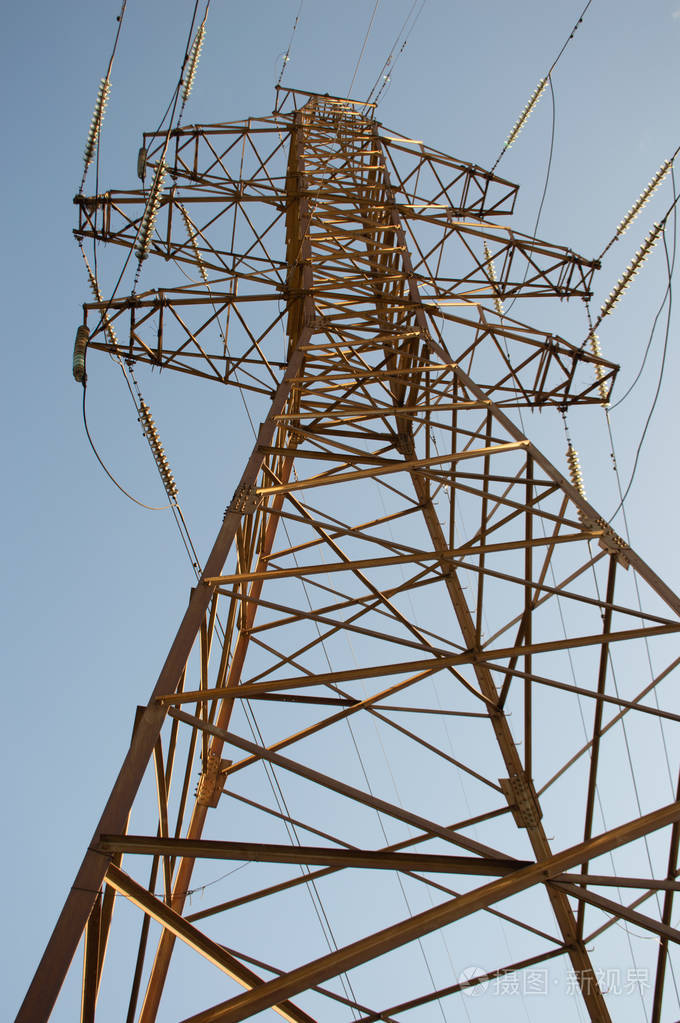insulator: (601, 223, 663, 310), (613, 161, 668, 239), (136, 404, 177, 497), (503, 76, 549, 148), (86, 278, 123, 357), (137, 156, 165, 260), (80, 75, 110, 169), (176, 205, 210, 278), (565, 446, 591, 524), (590, 330, 612, 408), (180, 29, 204, 99), (71, 328, 91, 387)
